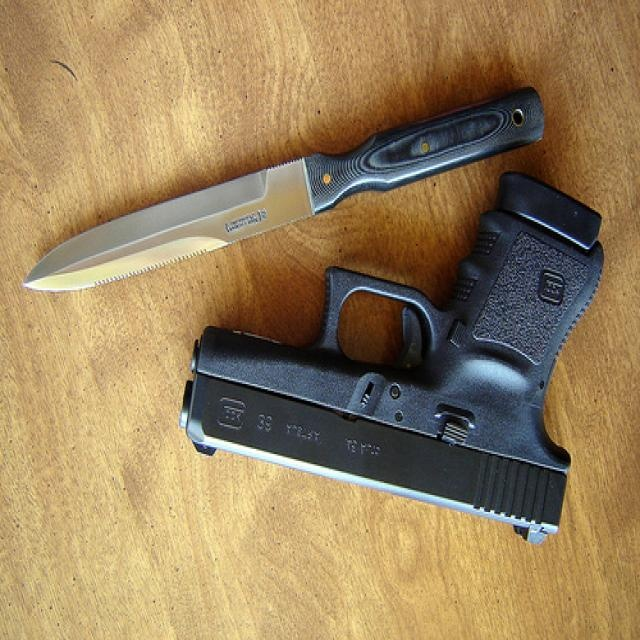gun: (9, 53, 557, 304)
